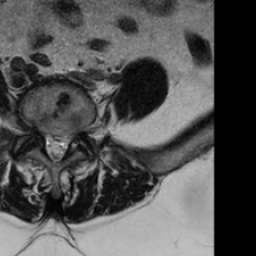CCS_normal: (52, 128, 61, 167)
LFS_severe_stenosis: (71, 120, 80, 145)
LLS_stenosis: (61, 128, 71, 154)
RFS_severe_stenosis: (32, 117, 43, 146)
RLS_normal: (43, 126, 52, 158)
